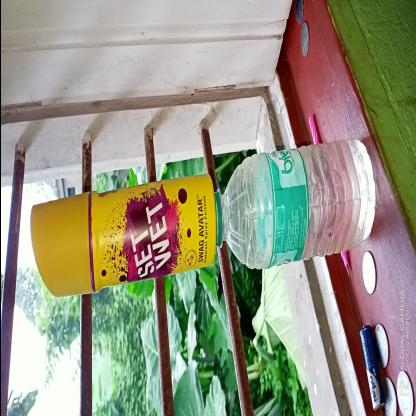bottle: (30, 175, 218, 303), (216, 138, 380, 274)
